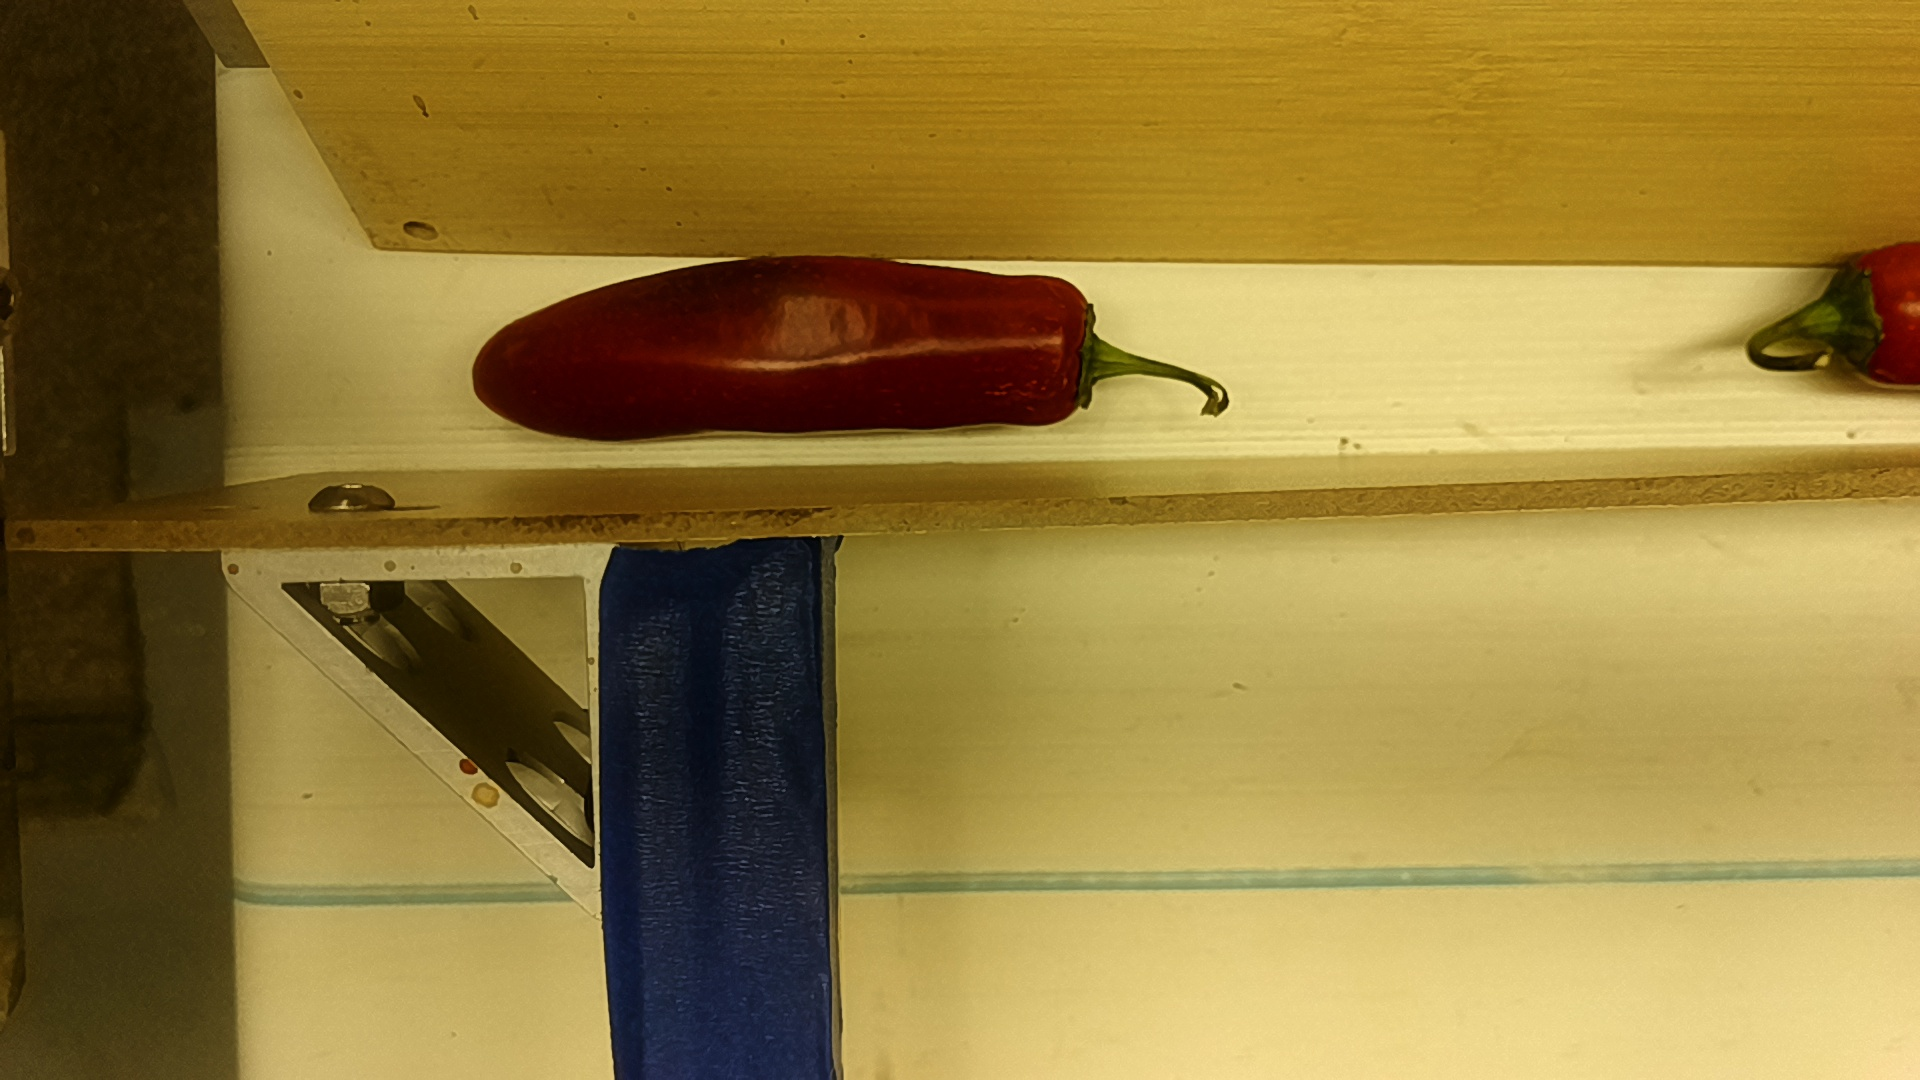Cut Point: (1033, 269, 1124, 433), (1818, 233, 1909, 394)
